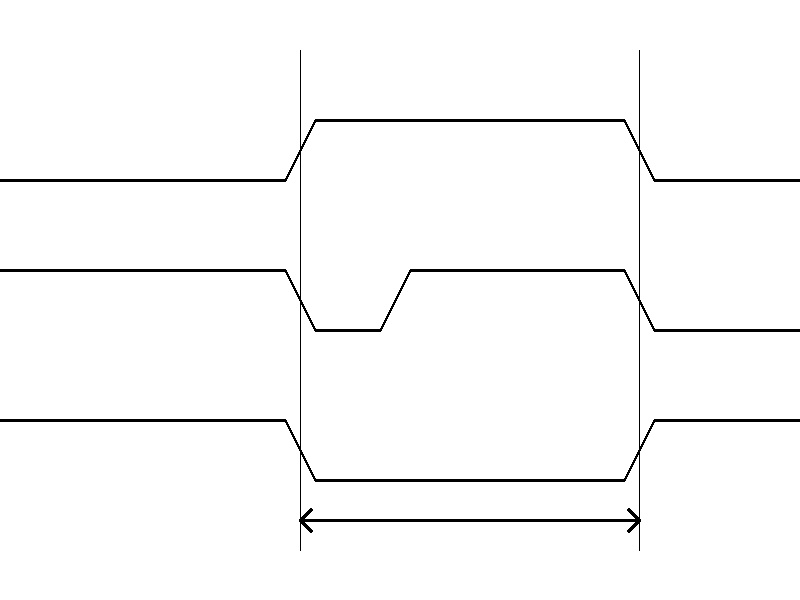double_arrow: (300, 505, 639, 535)
